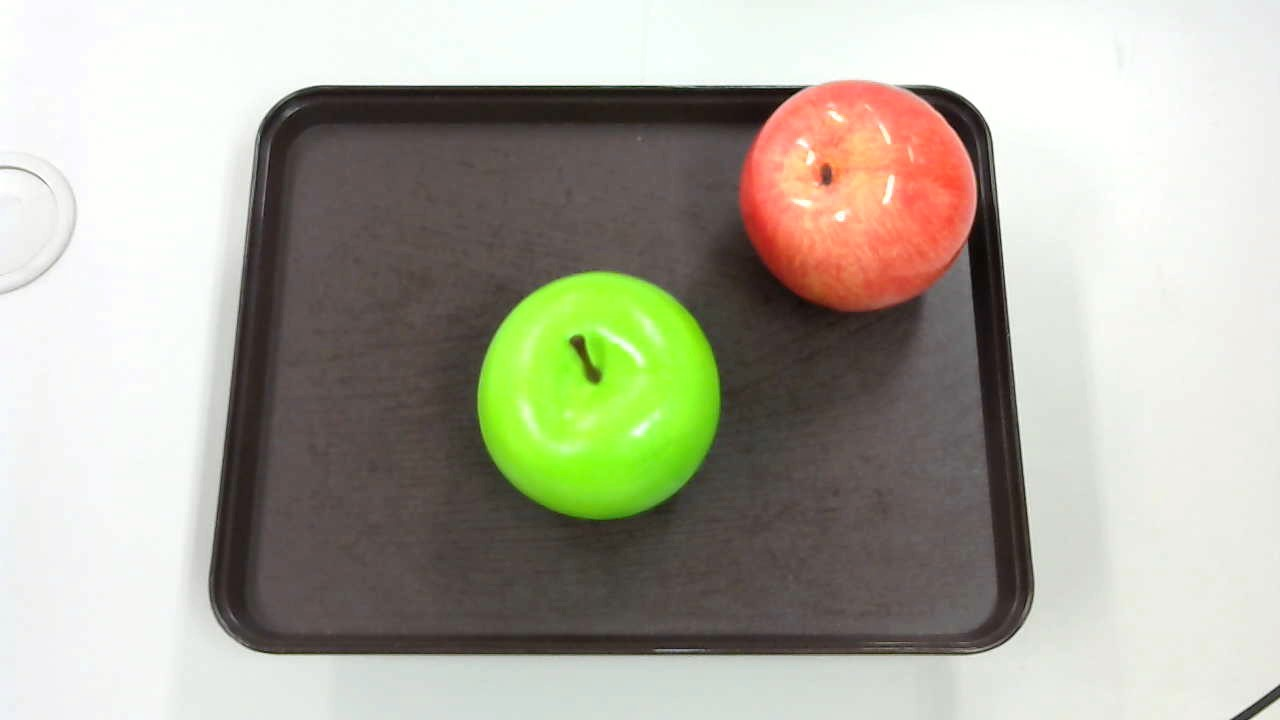green apple: (466, 258, 724, 521)
red apple: (742, 76, 980, 316)
